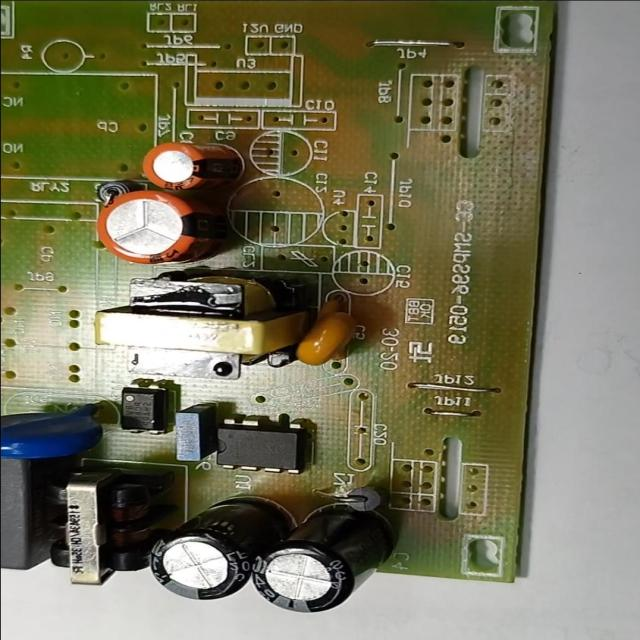Cap1: (94, 194, 217, 263)
Cap2: (142, 143, 237, 191)
Cap3: (146, 506, 257, 597)
Cap4: (256, 506, 397, 614)
MOSFET: (207, 418, 303, 474)
Mov: (1, 404, 102, 460)
Transformer: (89, 264, 302, 378), (36, 466, 160, 589)
